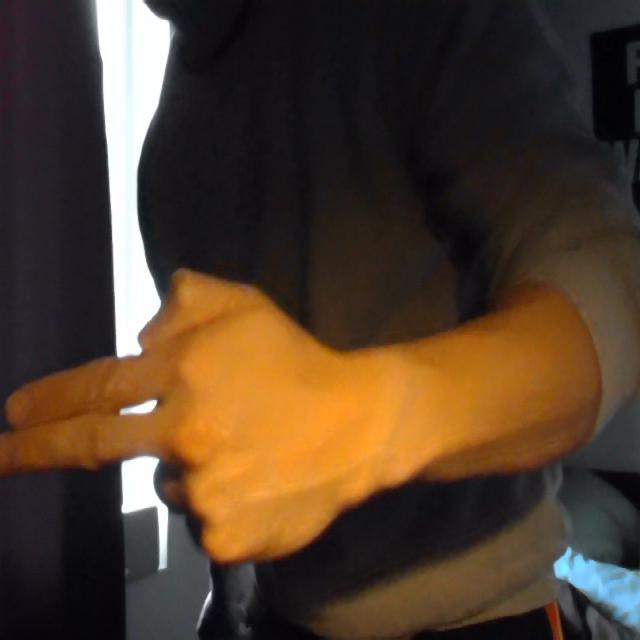left: (6, 270, 424, 576)
